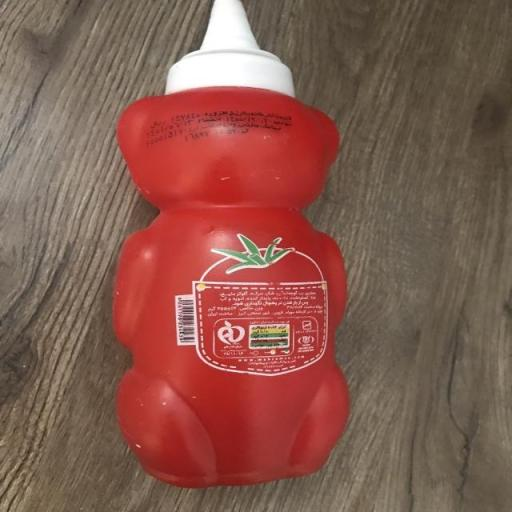plastic: (111, 0, 358, 488)
